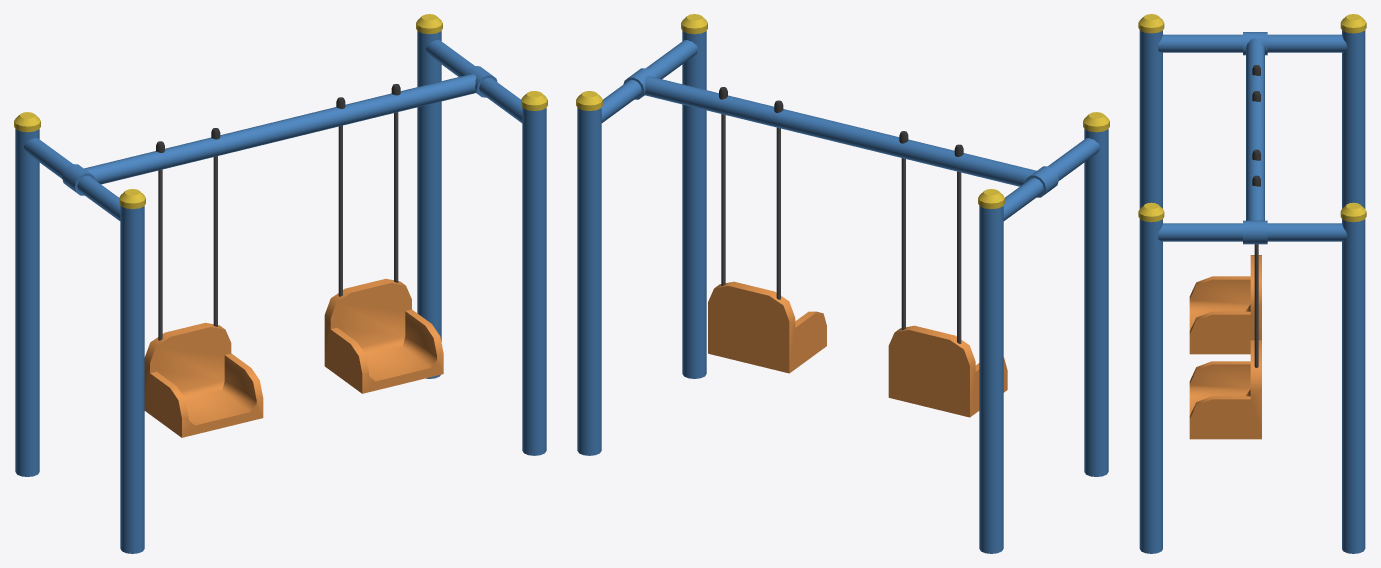
File: Attraction_8.fbx
The picture shows the model from 3 angles, left to right: view 1: azimuth 30°, elevation 25°; view 2: azimuth 150°, elevation 25°; view 3: azimuth 270°, elevation 25°; orthographic projection. The views are drawn at different scales.
Parts seen in each view (by area): view 1: Attraction_8; view 2: Attraction_8; view 3: Attraction_8.
Boxes of the visible parts, bbox=[...] form: Attraction_8: bbox=[14, 14, 547, 553]; Attraction_8: bbox=[576, 14, 1109, 553]; Attraction_8: bbox=[1138, 14, 1366, 553].
Bounding box in the file's own units: 258 × 207 × 124.
